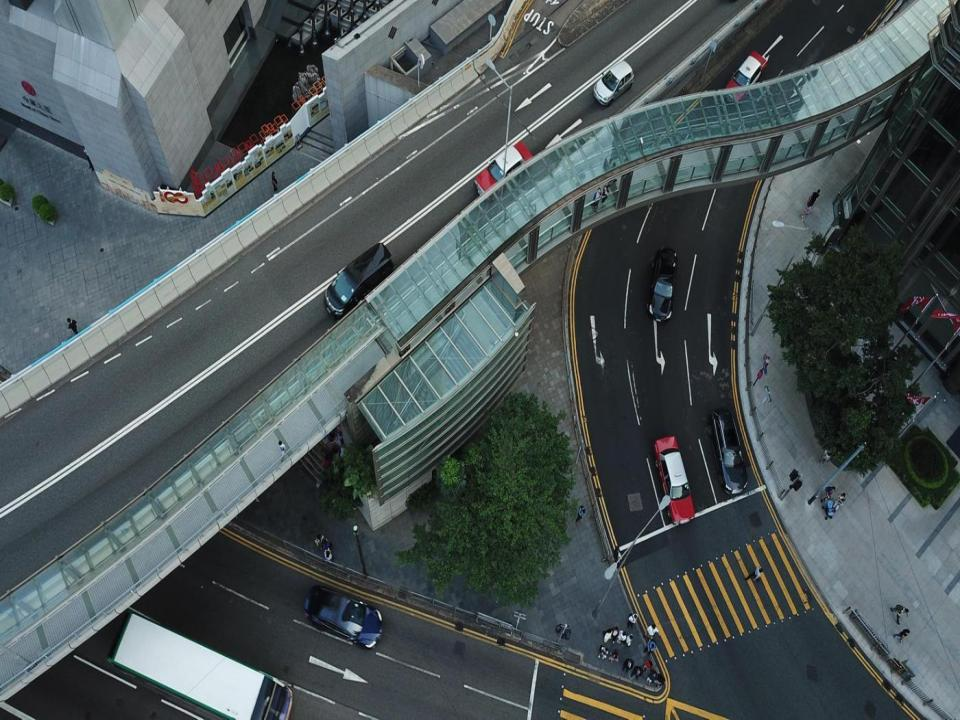bus: (106, 603, 296, 719)
car: (303, 586, 381, 647), (654, 433, 694, 523), (474, 140, 530, 197), (711, 408, 748, 492), (720, 51, 767, 115), (649, 246, 676, 323), (592, 60, 633, 104)
van: (324, 243, 396, 317)
